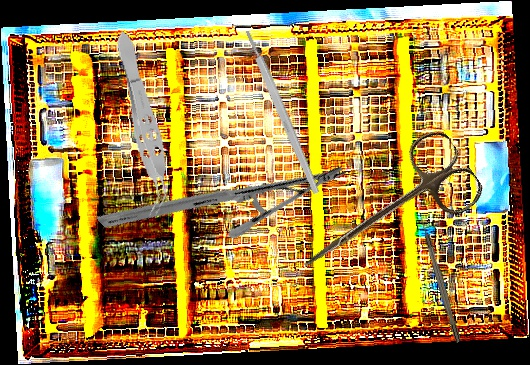Hook Surgical: (417, 212, 462, 344)
Iris Scissors: (282, 123, 489, 305)
Needle Holder: (96, 74, 348, 319)
Scalpel Handle: (243, 29, 321, 195)
Tissue Forceps: (107, 27, 179, 219)
